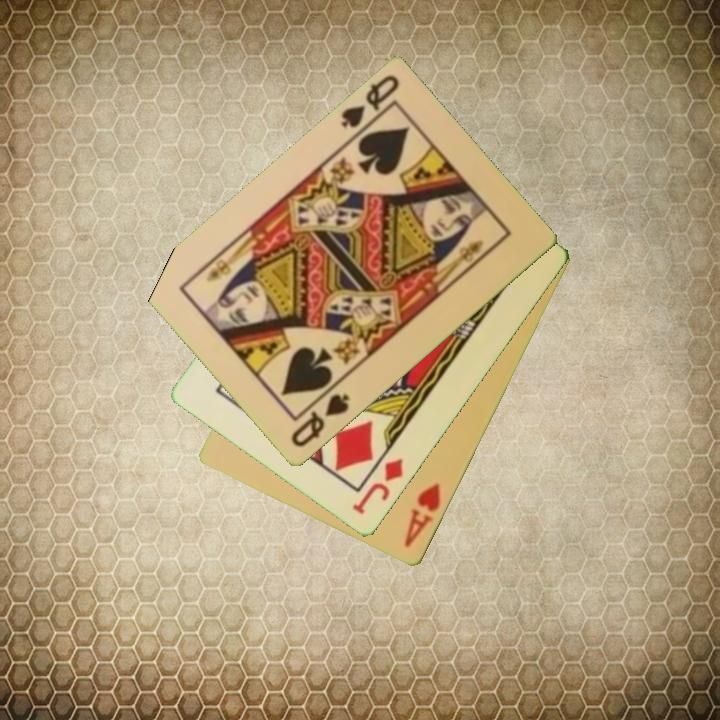Ah: (401, 480, 444, 551)
Jd: (349, 455, 407, 518)
Qs: (287, 390, 352, 451), (337, 72, 403, 132)
